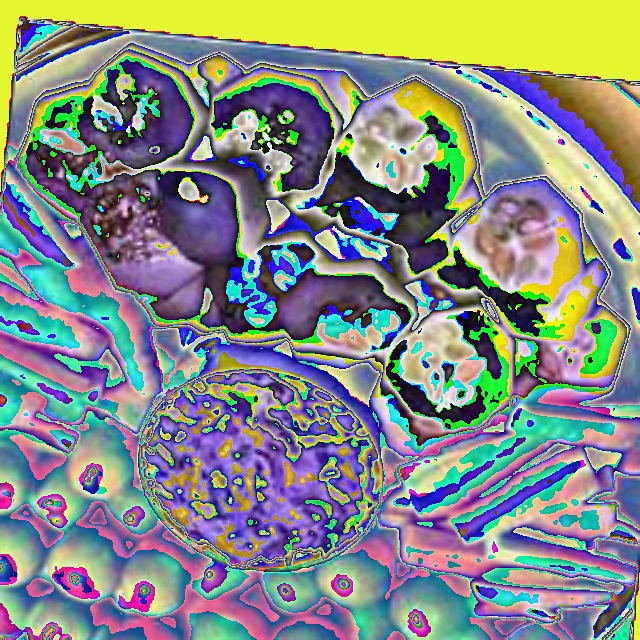background: (0, 40, 640, 639)
